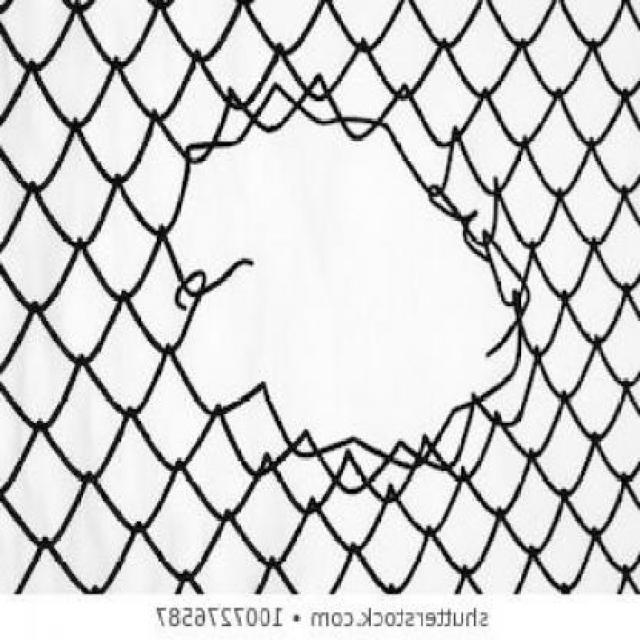fence line: (156, 123, 532, 463)
